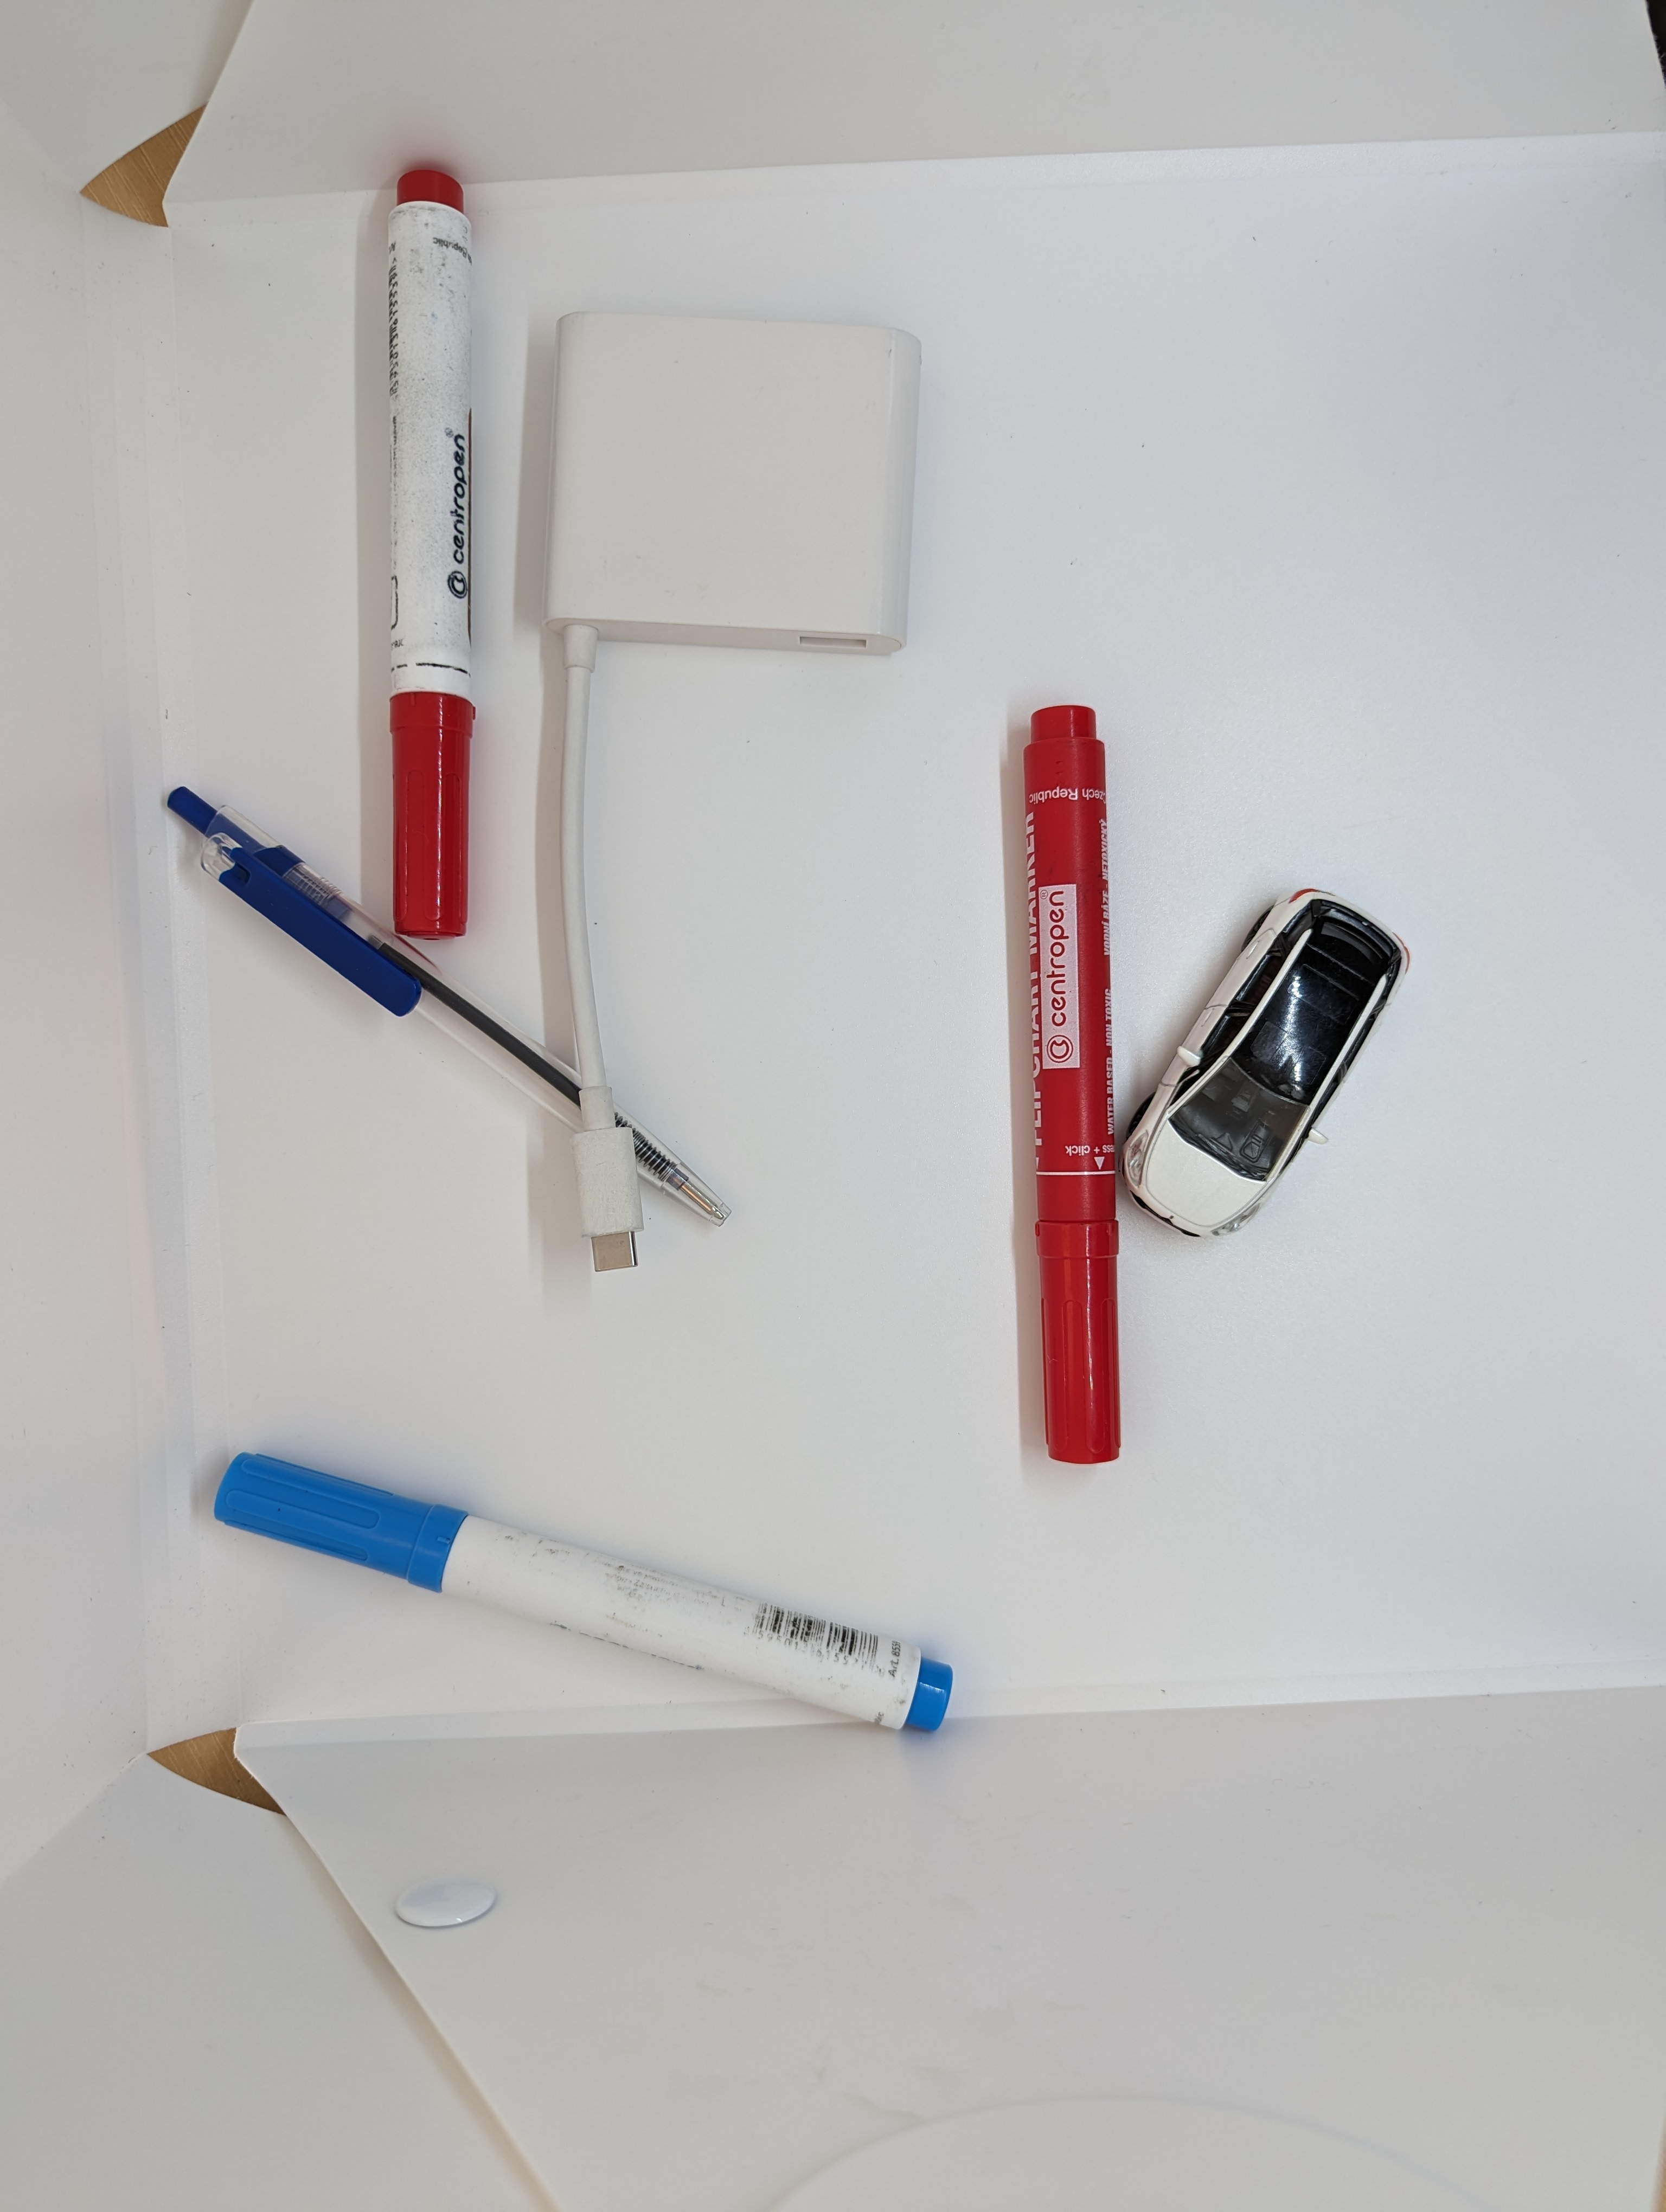blue-stylo: (175, 1411, 1006, 1848)
red-red-stylo: (968, 675, 1167, 1490)
red-stylo: (341, 103, 516, 960)
regular-stylo: (144, 757, 749, 1434)
